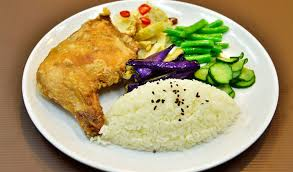rice: (97, 77, 239, 156)
